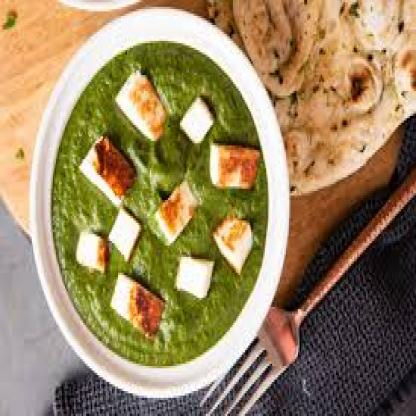palak_paneer: (51, 41, 269, 369)
